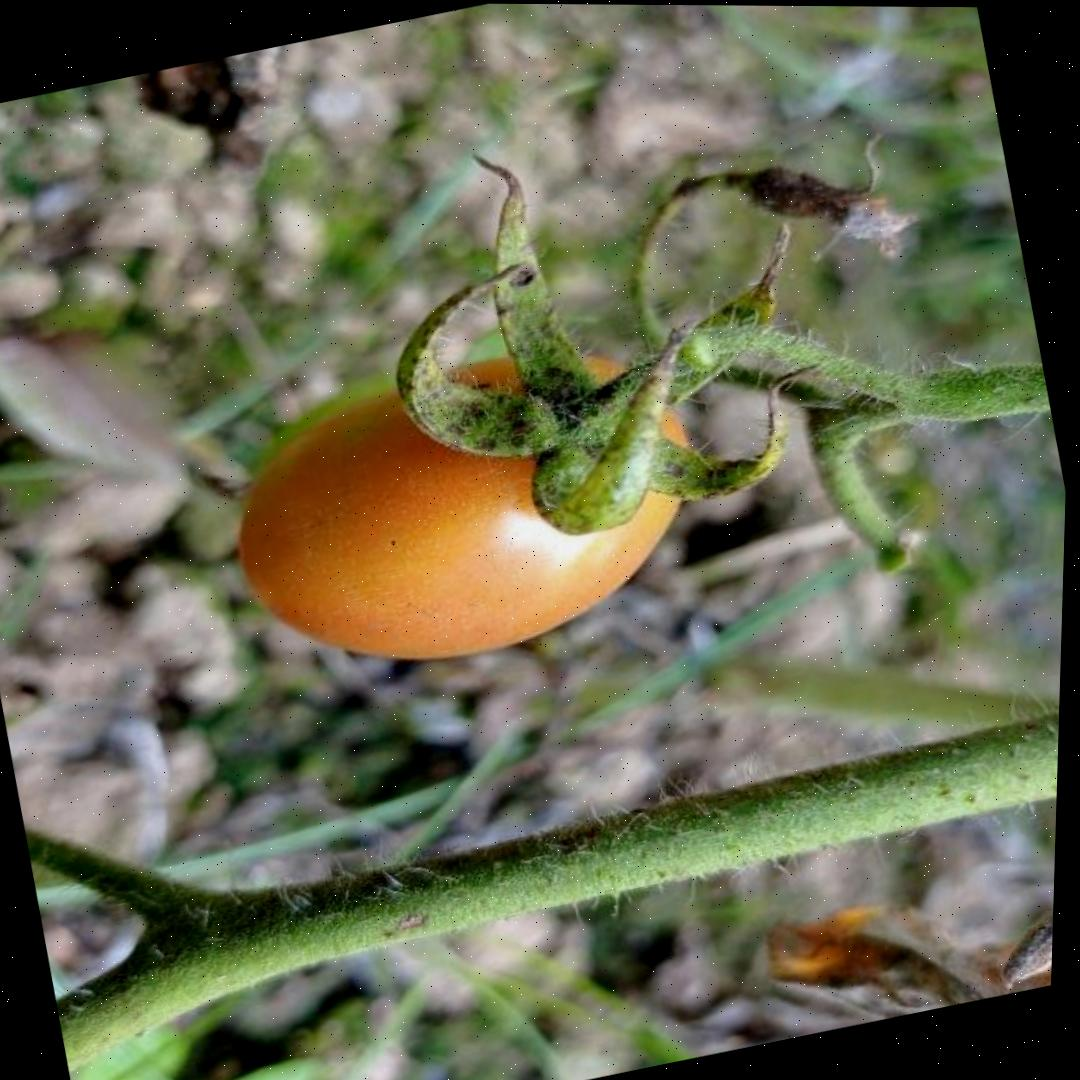setengah_matang: (201, 317, 731, 703)
